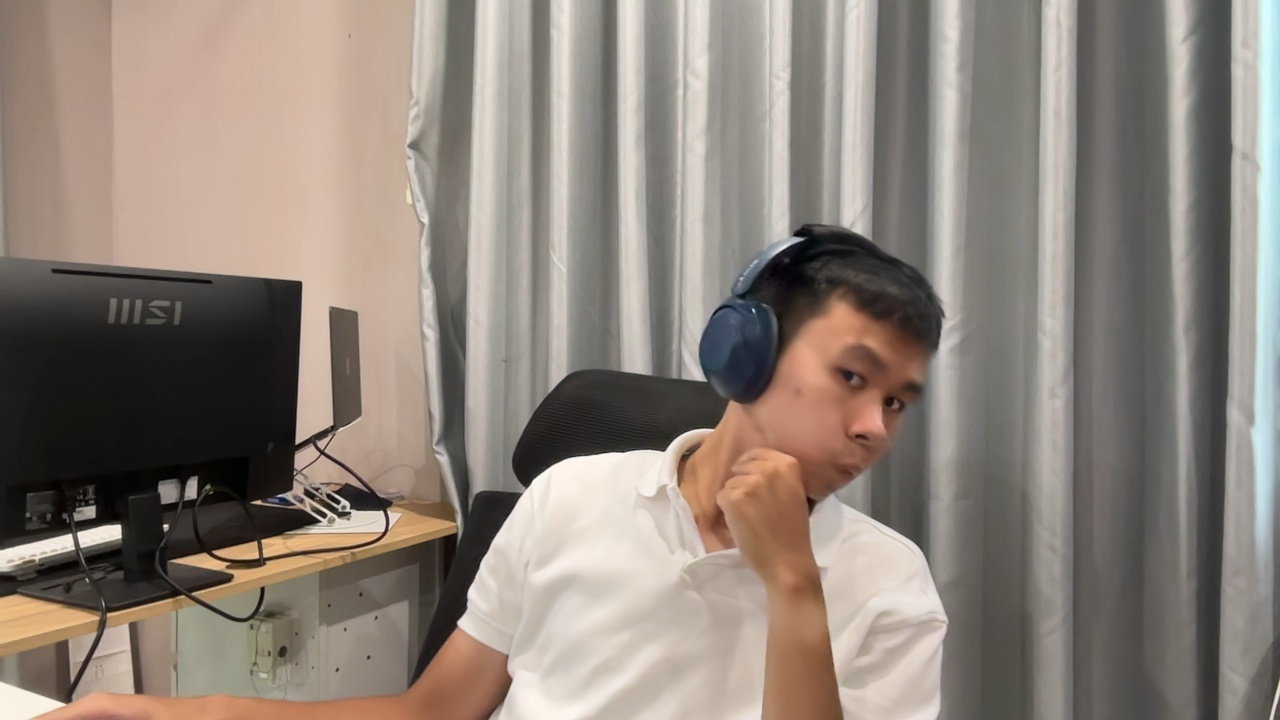over_ear: (697, 223, 945, 407), (697, 225, 872, 407), (697, 227, 815, 406)
